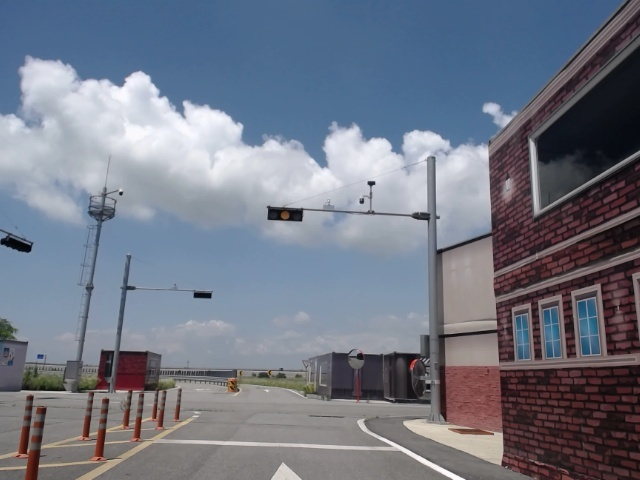orange_3: (268, 208, 303, 223)
